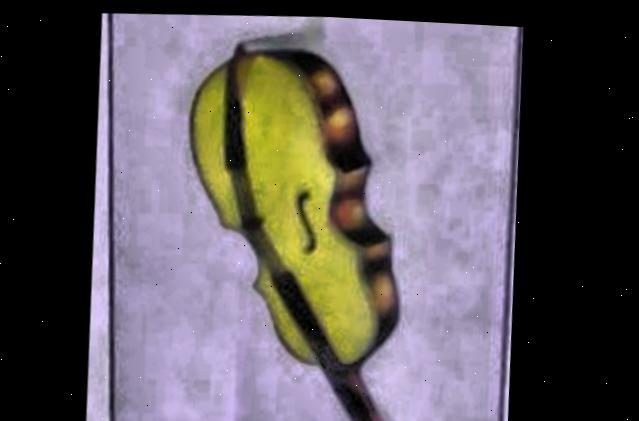El Violoncello: (77, 4, 527, 421)
